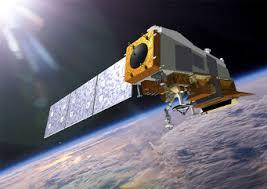antenna: (161, 94, 175, 130), (173, 91, 190, 115), (134, 82, 144, 98), (159, 70, 166, 87), (189, 104, 197, 117), (178, 83, 185, 93)
body: (125, 29, 240, 114)
solar: (44, 55, 133, 138)
